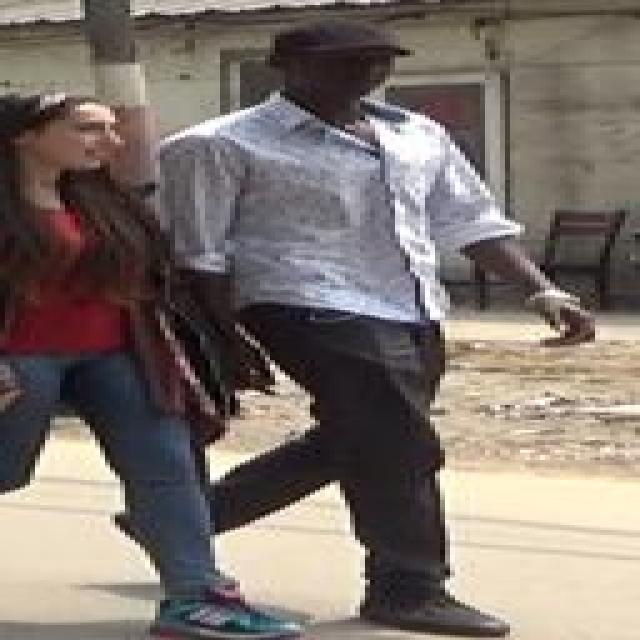adult: (156, 28, 604, 626), (0, 94, 297, 640)
